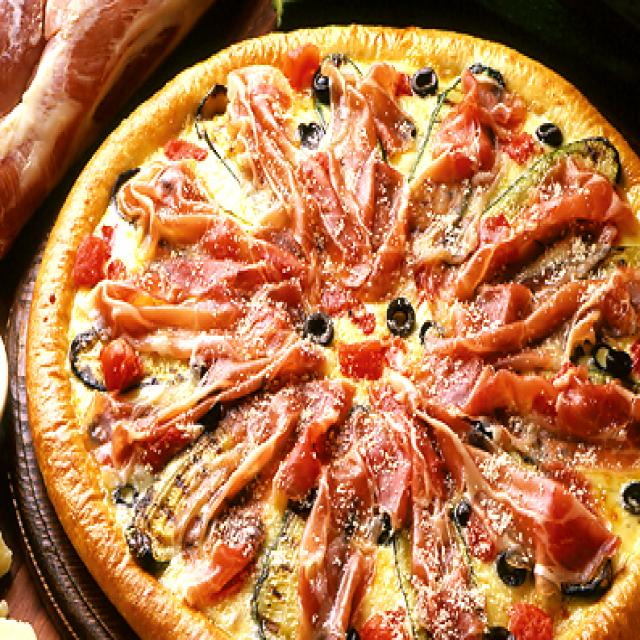汉堡快餐: (21, 11, 640, 640)
